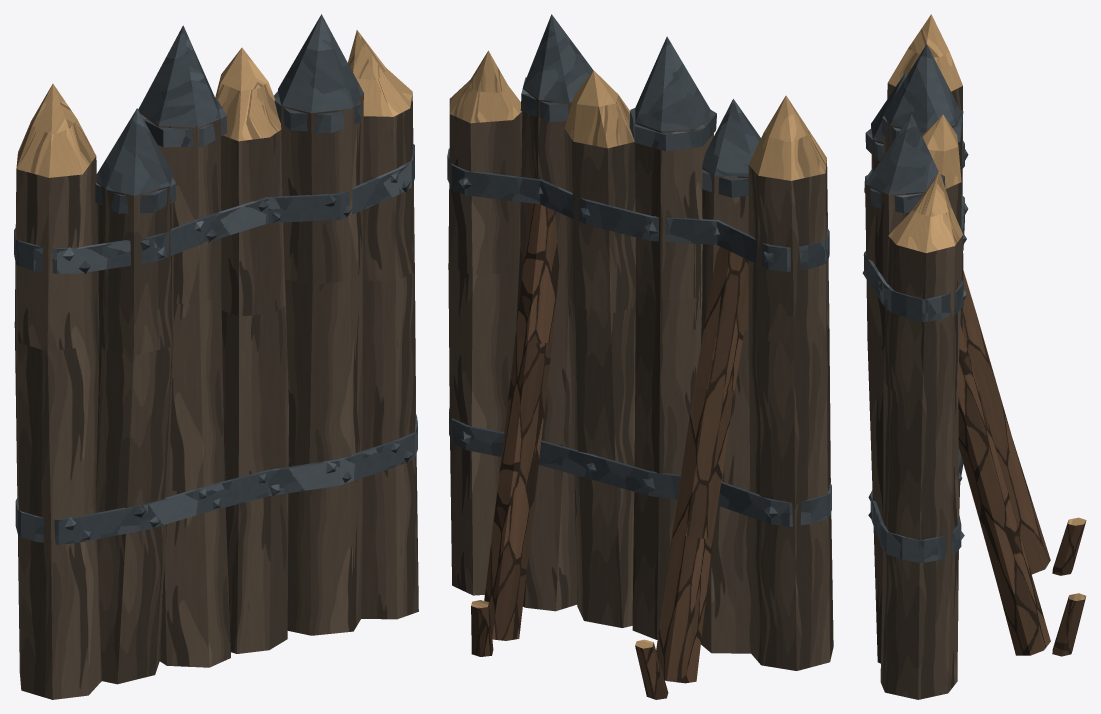
File: SM_ReinforcedPalisadeSection.fbx
3 renders of one model, left to right at view 1: azimuth 30°, elevation 25°; view 2: azimuth 150°, elevation 25°; view 3: azimuth 270°, elevation 25°, orthographic. The views are drawn at different scales.
Visible parts, largest first — view 1: SM_ReinforcedPalisadeSection; view 2: SM_ReinforcedPalisadeSection; view 3: SM_ReinforcedPalisadeSection.
Part boxes in pixels (bbox=[...]): SM_ReinforcedPalisadeSection: bbox=[14, 14, 418, 699]; SM_ReinforcedPalisadeSection: bbox=[447, 14, 833, 699]; SM_ReinforcedPalisadeSection: bbox=[862, 14, 1086, 699].
Bounding box in the file's own units: 2 × 3 × 1.1.
